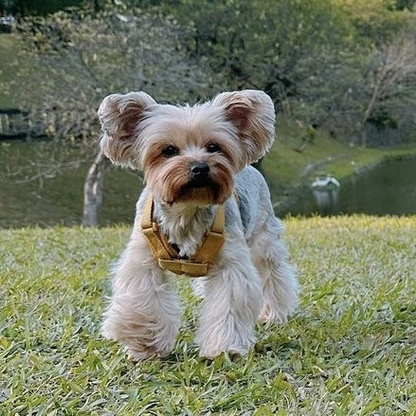yokshine: (98, 90, 301, 359)
